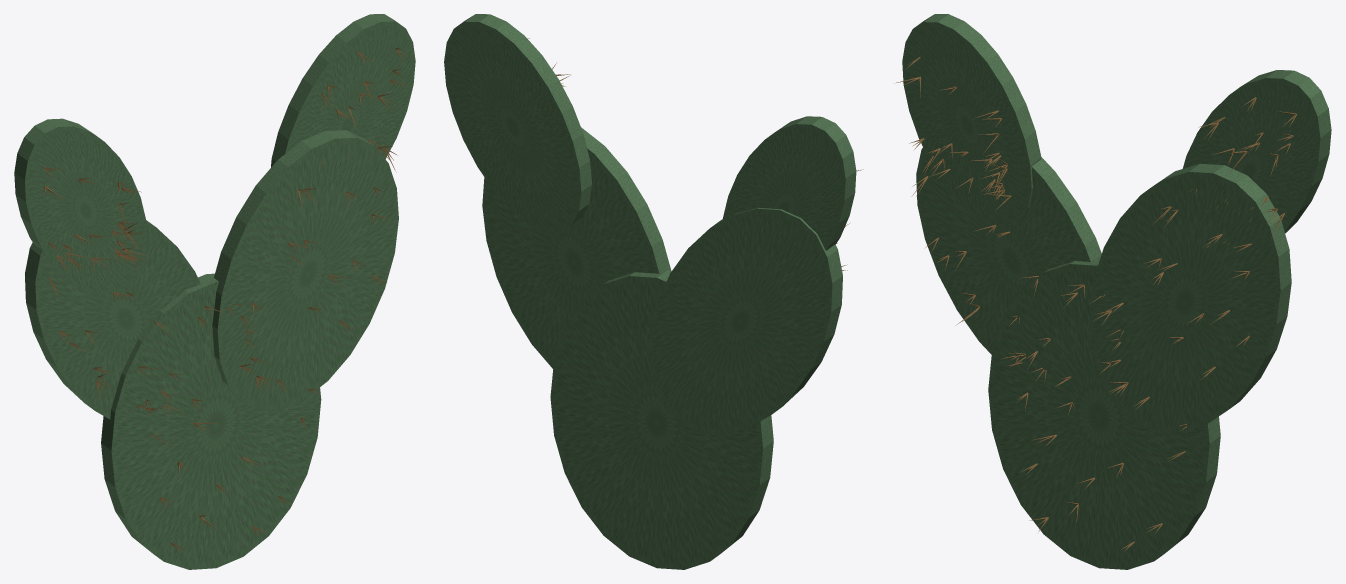
File: SUCCULENT_02_PRICKLY_PEAR.glb
3 views of the same model, side by side, from view 1: azimuth 30°, elevation 25°; view 2: azimuth 150°, elevation 25°; view 3: azimuth 330°, elevation 25° (orthographic). The views are drawn at different scales.
Visible parts, largest first — view 1: SUCCULENT_02_PRICKLY_PEAR__OPUNTIA_PADS, SUCCULENT_02_PRICKLY_PEAR__SMALL_SPINES; view 2: SUCCULENT_02_PRICKLY_PEAR__OPUNTIA_PADS; view 3: SUCCULENT_02_PRICKLY_PEAR__OPUNTIA_PADS, SUCCULENT_02_PRICKLY_PEAR__SMALL_SPINES.
Part boxes in pixels (x1,y1,x2,y2): SUCCULENT_02_PRICKLY_PEAR__OPUNTIA_PADS: [14, 14, 415, 569]; SUCCULENT_02_PRICKLY_PEAR__SMALL_SPINES: [44, 48, 411, 555]; SUCCULENT_02_PRICKLY_PEAR__OPUNTIA_PADS: [444, 14, 856, 569]; SUCCULENT_02_PRICKLY_PEAR__OPUNTIA_PADS: [902, 14, 1331, 569]; SUCCULENT_02_PRICKLY_PEAR__SMALL_SPINES: [896, 57, 1296, 551].
Bounding box in the file's own units: 0.8629 × 1.05 × 0.136.
1 material, 1 textured.
